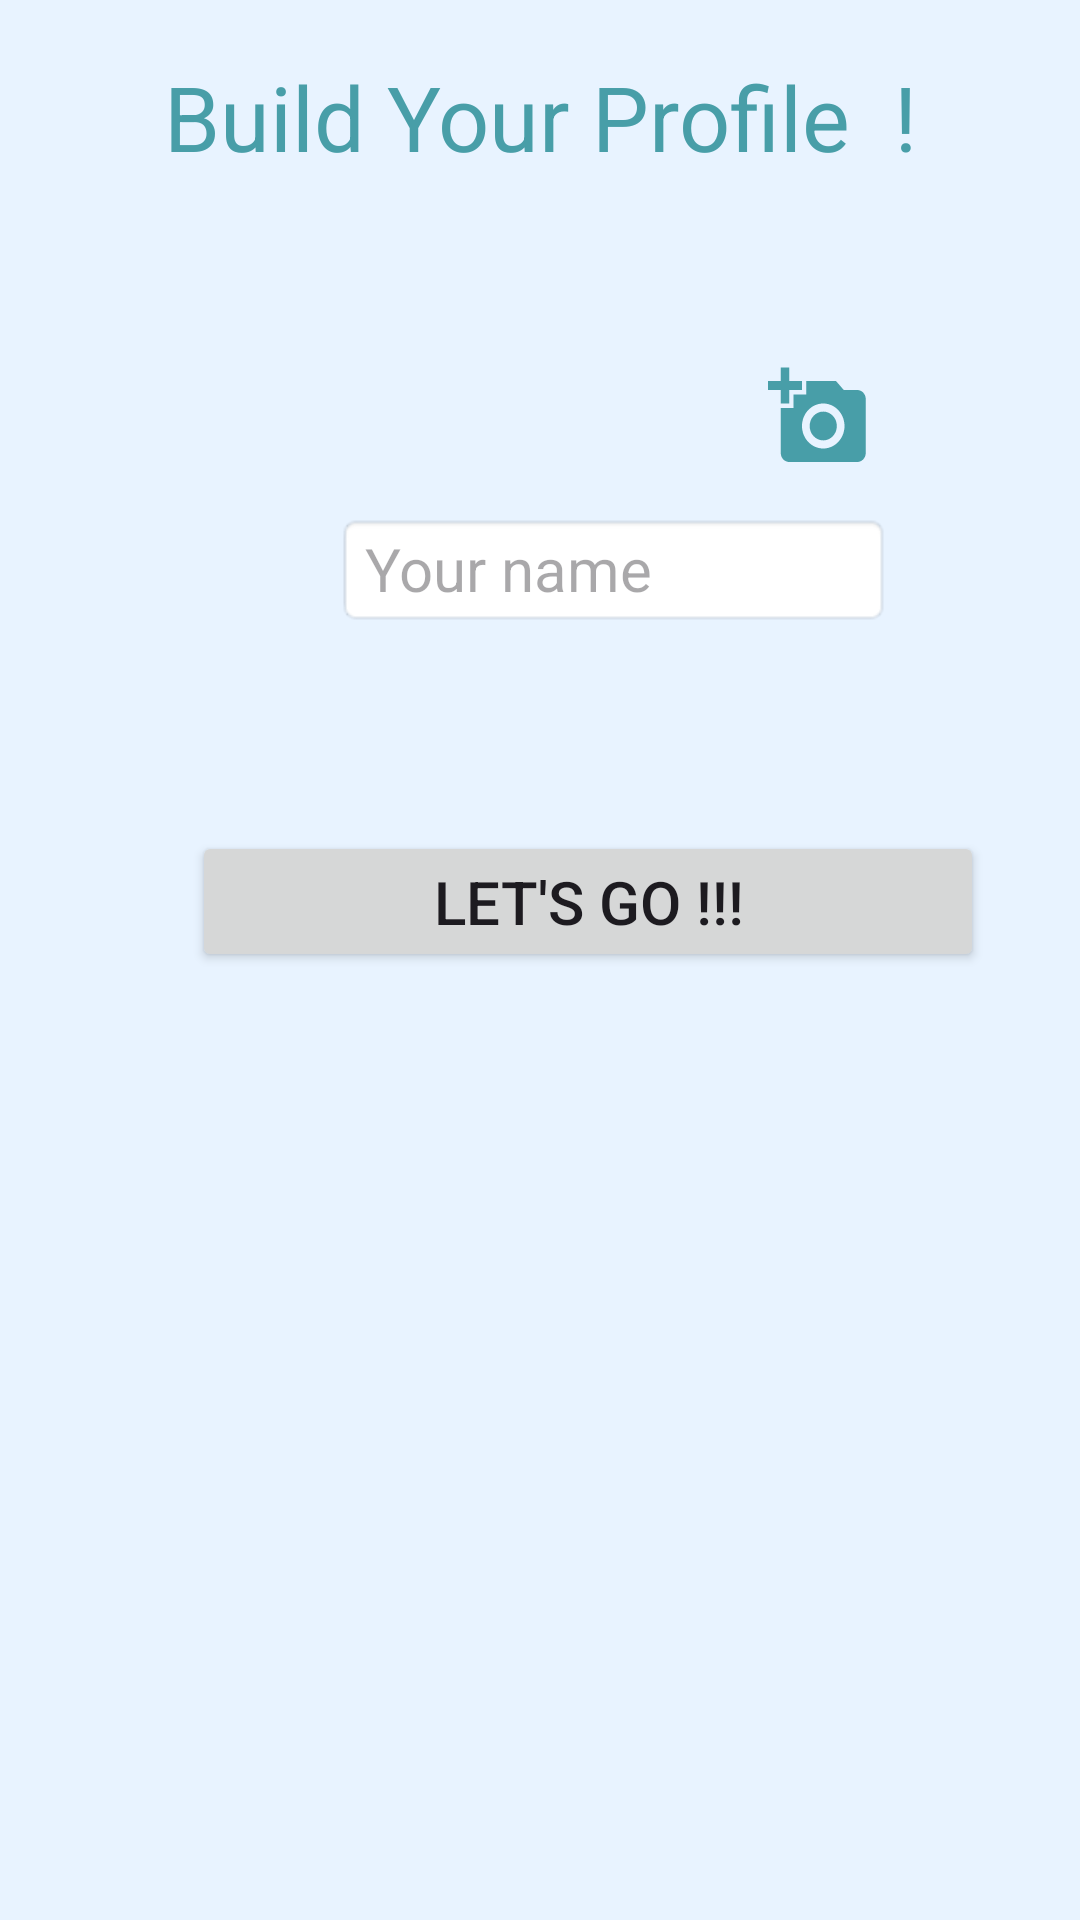

Named icons in this screenshot (1080 x 1920) and their bounding boxes, bbox=(x1, y1, x2, y2):
add photo: bbox=(768, 367, 866, 462)
